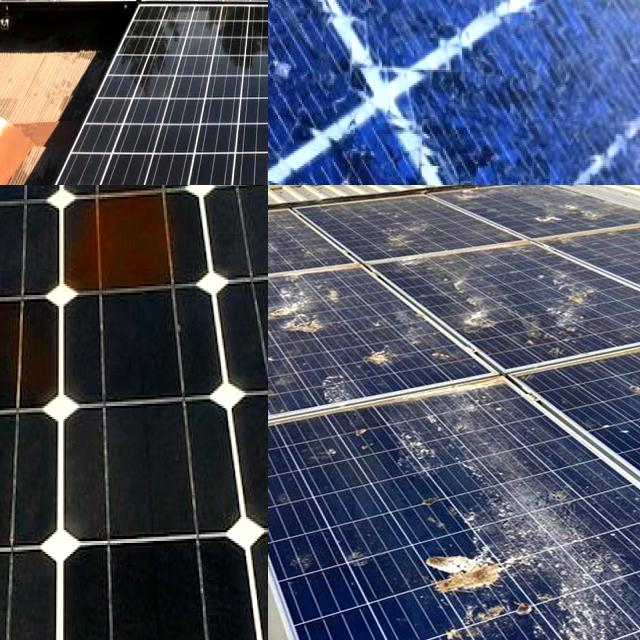bird: (387, 398, 525, 486), (418, 536, 526, 599), (442, 260, 509, 348), (268, 269, 346, 336), (550, 269, 607, 337), (280, 536, 330, 588), (344, 536, 394, 586), (354, 336, 414, 373)
crack: (1, 5, 268, 185), (0, 0, 185, 55), (136, 0, 268, 66)
shadow: (48, 185, 196, 298), (0, 306, 94, 414)
